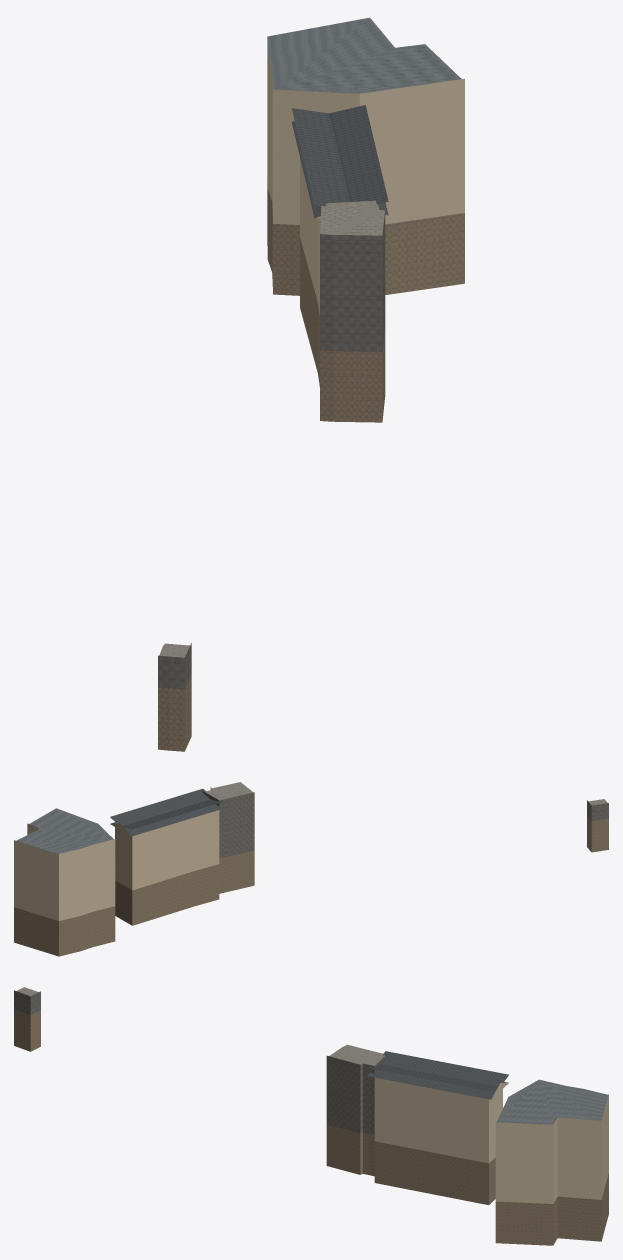
File: bld_c-13_27_476.gltf
3 renders of one model, top to bottom at view 1: azimuth 30°, elevation 25°; view 2: azimuth 150°, elevation 25°; view 3: azimuth 270°, elevation 25°, orthographic. The views are drawn at different scales.
Parts seen in each view (by area): view 1: bld_c-13_27_476; view 2: bld_c-13_27_476; view 3: bld_c-13_27_476.
Part boxes in pixels (left/top/right/bottom): bld_c-13_27_476: left=158, top=17, right=464, bottom=751; bld_c-13_27_476: left=14, top=782, right=608, bottom=956; bld_c-13_27_476: left=14, top=987, right=608, bottom=1245.
Bounding box in the file's own units: 53.96 × 15.08 × 65.89.
Materials: 8 (8 with a texture image).
